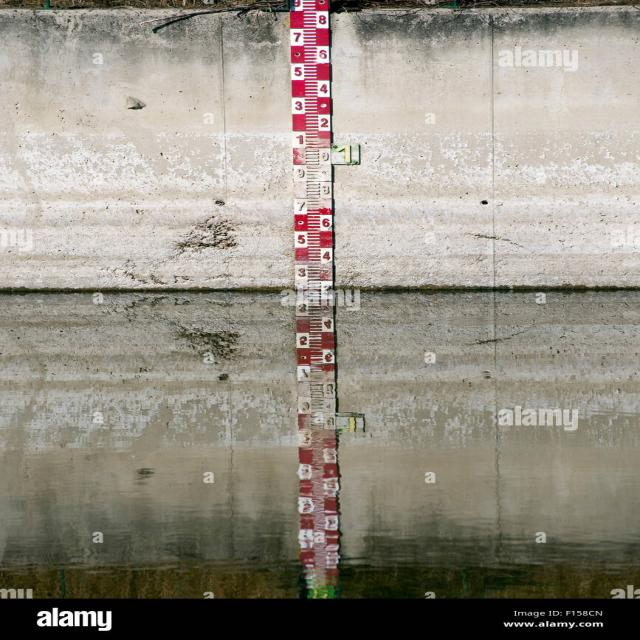ruler: (284, 0, 340, 294)
value: (289, 29, 304, 46), (316, 45, 331, 61), (317, 81, 331, 98), (316, 11, 330, 27), (290, 66, 304, 82), (318, 114, 331, 130), (292, 98, 304, 114), (321, 248, 334, 262), (320, 182, 333, 196), (294, 167, 308, 180), (320, 216, 333, 230), (293, 132, 305, 146), (294, 200, 308, 212), (294, 266, 308, 278), (319, 282, 334, 293), (294, 235, 307, 247), (320, 149, 332, 162), (290, 0, 303, 11)
